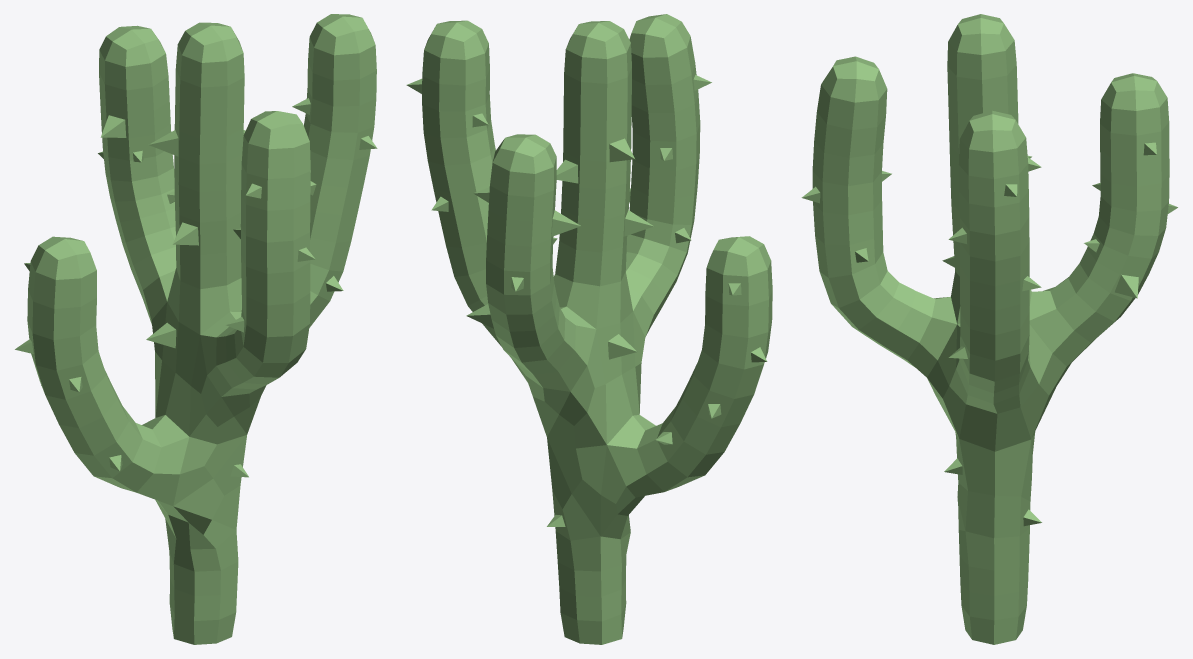
Rendered from cactus_2.fbx.
The picture shows the model from 3 angles, left to right: view 1: azimuth 30°, elevation 25°; view 2: azimuth 150°, elevation 25°; view 3: azimuth 270°, elevation 25°; orthographic projection.
Parts seen in each view (by area): view 1: Plane; view 2: Plane; view 3: Plane.
Part boxes in pixels (x1,y1,x2,y2): Plane: (15,14,377,644); Plane: (406,14,772,644); Plane: (801,14,1177,644).
Size of the model in its own units: 23.03 by 37.45 by 20.84.
